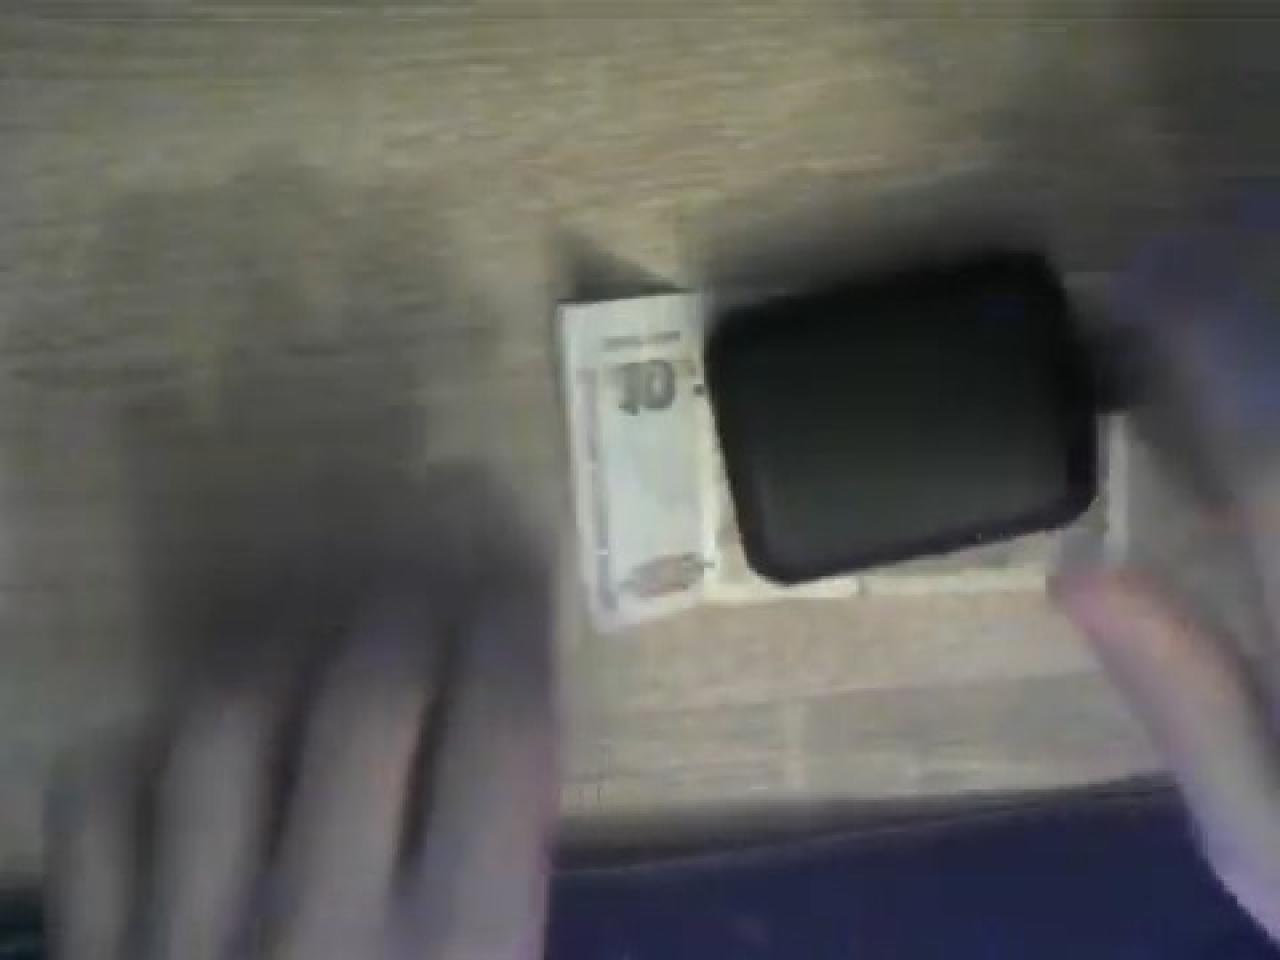10leva: (703, 251, 1102, 584)
